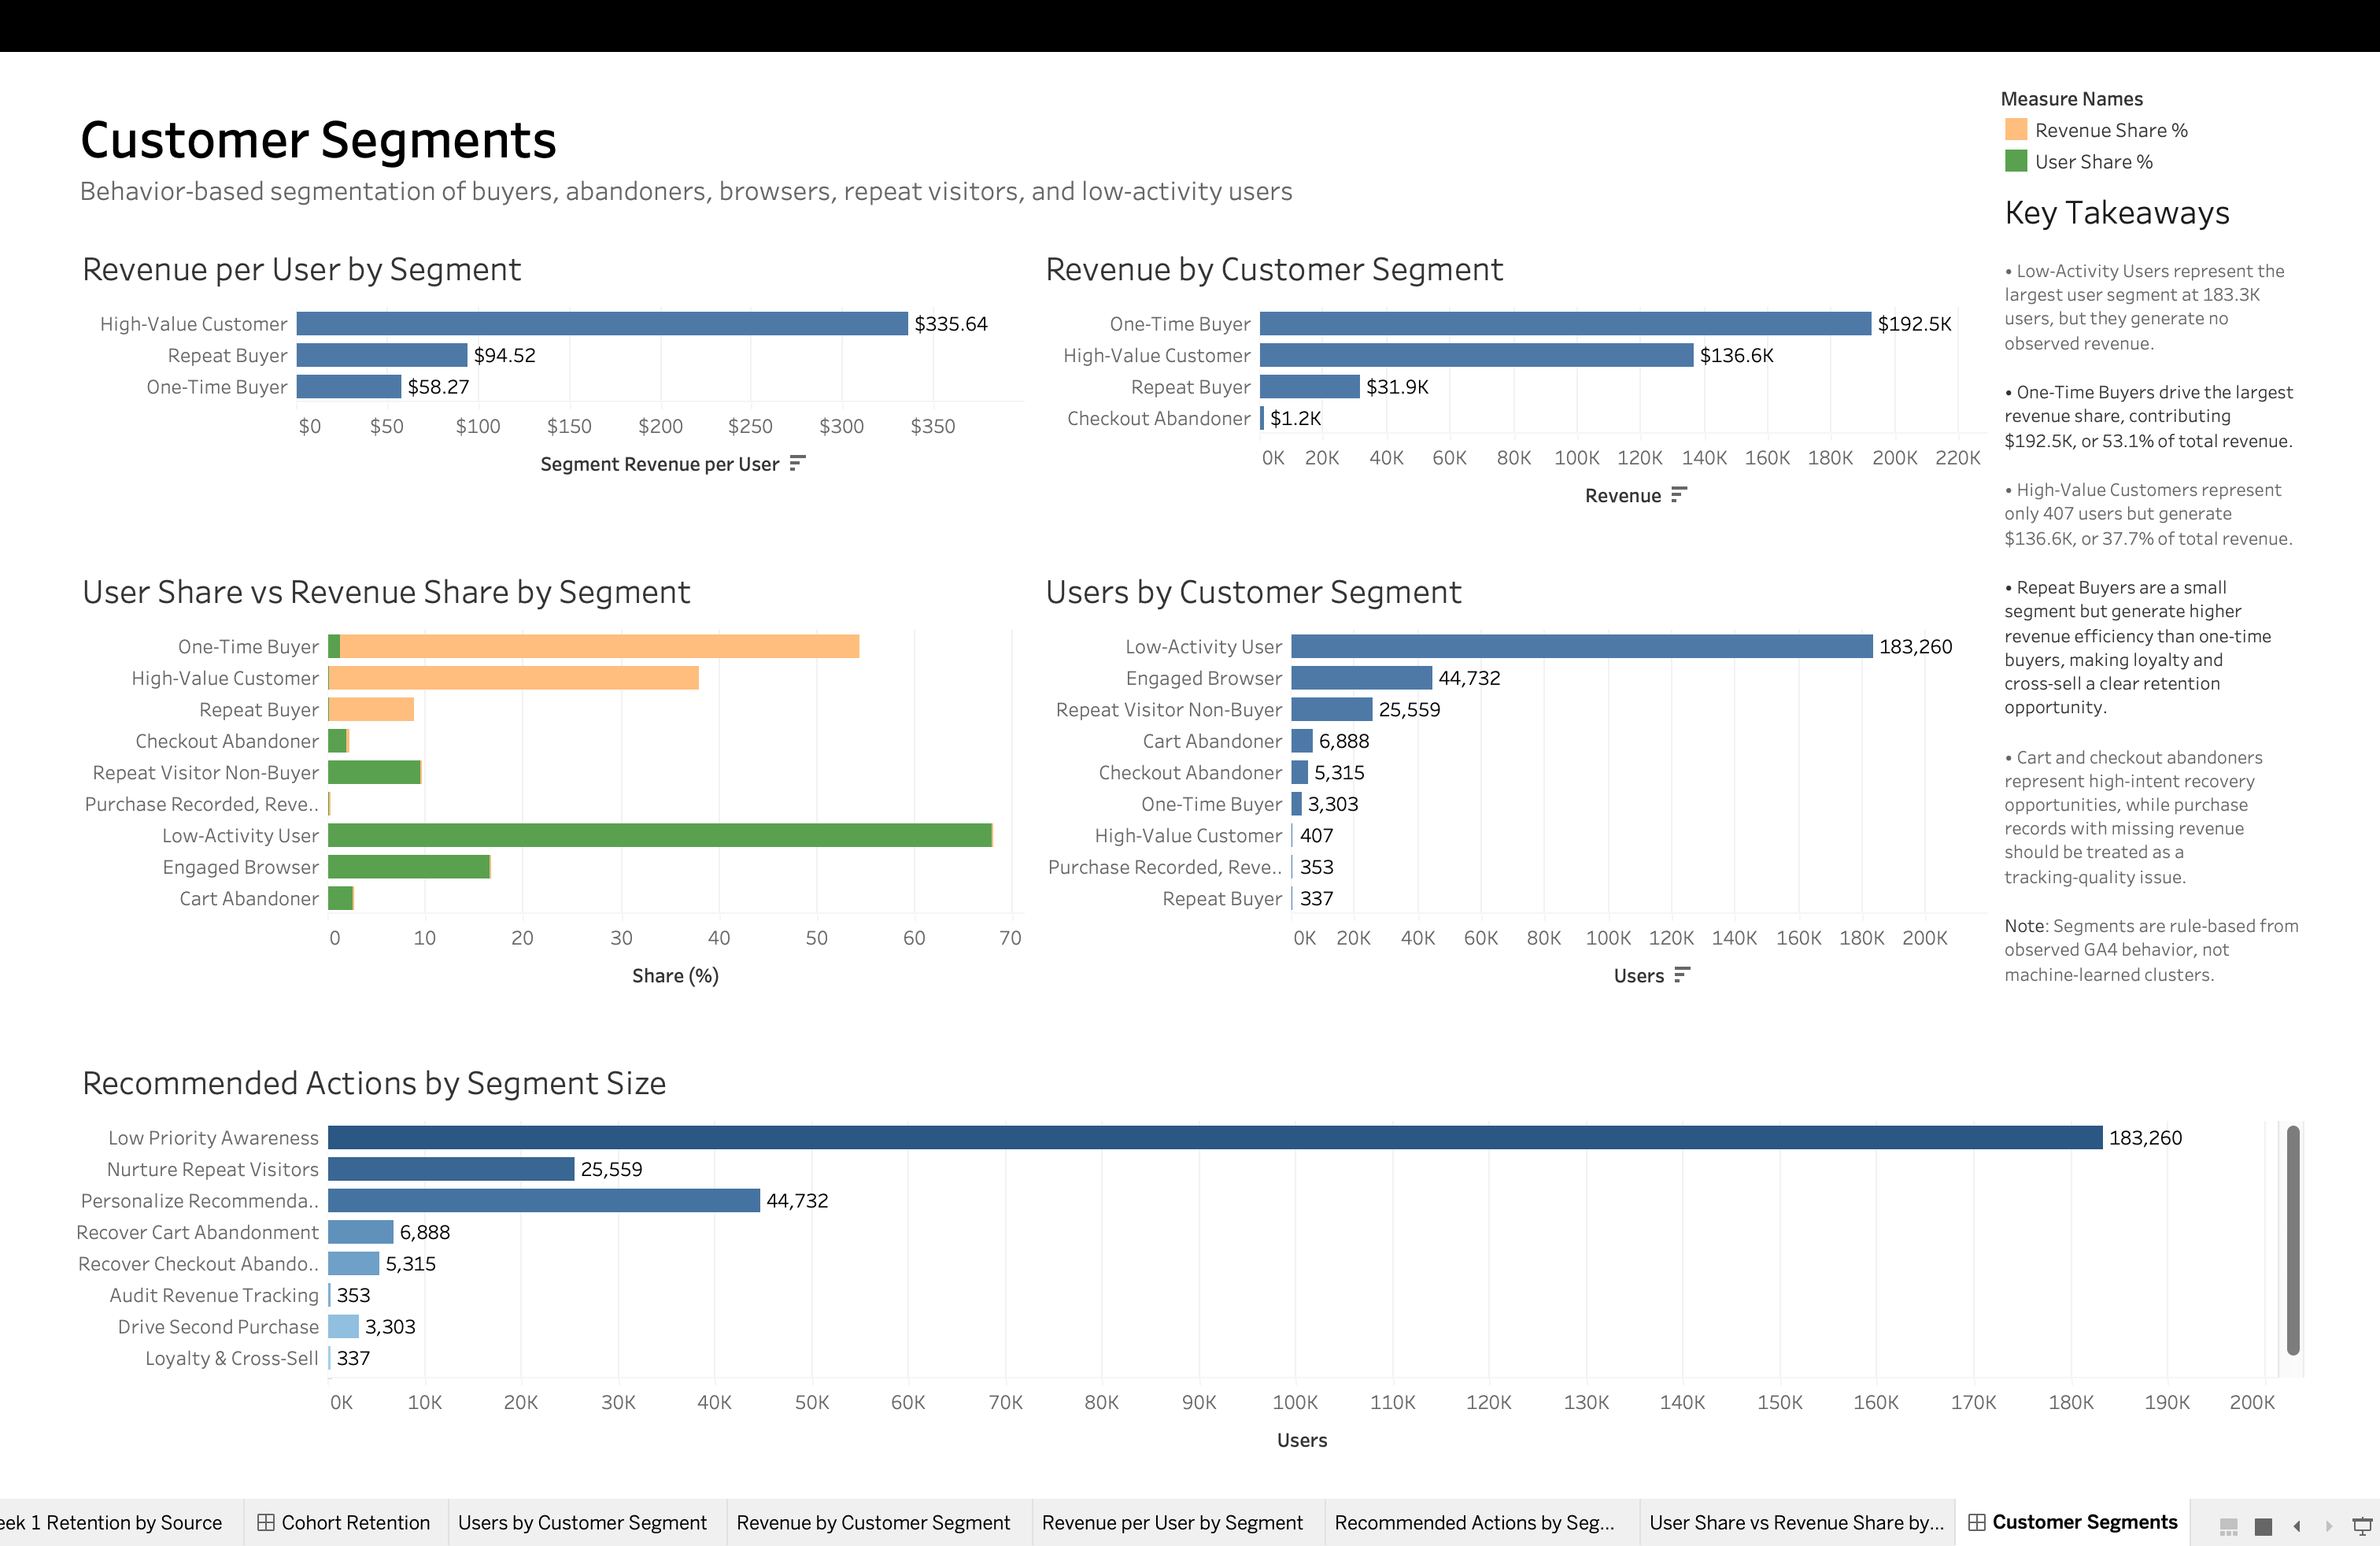

Layout of this report page (visuals, bound fields, positions):
{"tool":"tableau","page":{"name":"Customer Segments","canvas":[1440,900],"ordinal":2},"visuals":[{"type":"text","box":[8,8,1223,97.6]},{"type":"legend","title":"User Share vs Revenue Share by Segment","param":"[federated.0cxekcc1i6b38217dunfp1v92ly8].[:Measure Names]","box":[1231,8,201,66]},{"type":"text","box":[1231,74,201,538]},{"type":"worksheet","title":"Revenue per User by Segment","mark":"Bar","rows":["Calculation_5156297518813194"],"cols":["Calculation_5156297519198222"],"box":[8,105.7,611.5,205.7]},{"type":"worksheet","title":"Revenue by Customer Segment","mark":"Bar","rows":["Calculation_5156297518813194"],"cols":["revenue"],"box":[619.5,105.7,611.5,205.7]},{"type":"worksheet","title":"User Share vs Revenue Share by Segment","mark":"Bar","rows":["Calculation_5156297518813194"],"box":[8,311.3,611.5,311.7]},{"type":"worksheet","title":"Users by Customer Segment","mark":"Bar","rows":["Calculation_5156297518813194"],"cols":["users"],"box":[619.5,311.3,611.5,311.7]},{"type":"worksheet","title":"Recommended Actions by Segment Size","mark":"Bar","rows":["Calculation_5156297518895115"],"cols":["users"],"box":[8,623,1424,269]}]}

Visuals, with their boxes on the page's 1440x900 design canvas (x1, y1, x2, y2). These are canvas units, not pixel positions in the 2380x1546 screenshot, which may show the page scaled, cropped or inside an application window:
text: bbox(8, 8, 1231, 106)
"User Share vs Revenue Share by Segment" legend: bbox(1231, 8, 1432, 74)
text: bbox(1231, 74, 1432, 612)
"Revenue per User by Segment" worksheet (Bar marks): bbox(8, 106, 620, 311)
"Revenue by Customer Segment" worksheet (Bar marks): bbox(620, 106, 1231, 311)
"User Share vs Revenue Share by Segment" worksheet (Bar marks): bbox(8, 311, 620, 623)
"Users by Customer Segment" worksheet (Bar marks): bbox(620, 311, 1231, 623)
"Recommended Actions by Segment Size" worksheet (Bar marks): bbox(8, 623, 1432, 892)
